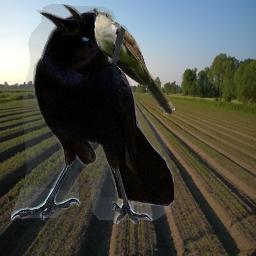Crow: (11, 4, 174, 224)
Cuckoo: (93, 8, 175, 115)
